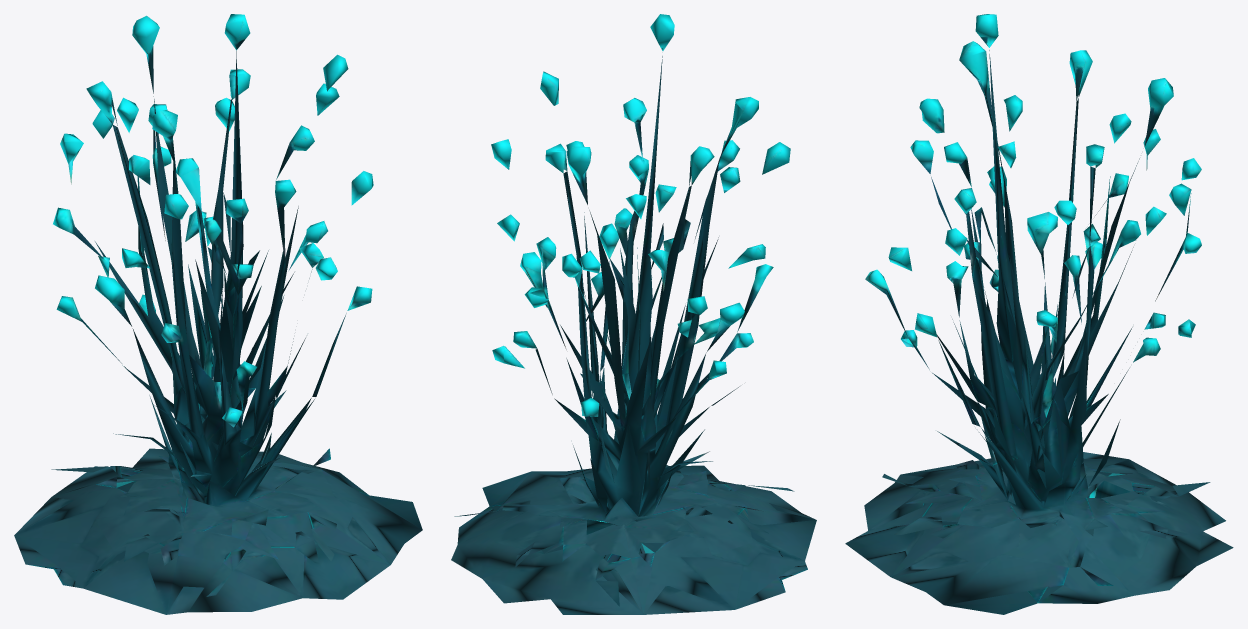
The picture shows the model from 3 angles, left to right: view 1: azimuth 30°, elevation 25°; view 2: azimuth 150°, elevation 25°; view 3: azimuth 270°, elevation 25°; orthographic projection. The views are drawn at different scales.
Bounding box in the file's own units: 1.3 × 1.89 × 1.29.
Materials: 1 (1 with a texture image).
